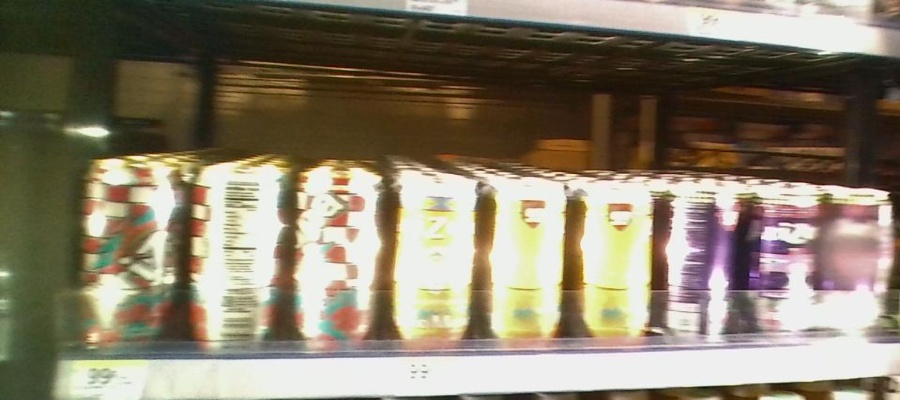bottle: (69, 151, 186, 357), (189, 162, 293, 354), (389, 160, 482, 352), (297, 154, 384, 353), (489, 168, 567, 347), (573, 171, 653, 345), (741, 174, 821, 343), (663, 176, 740, 344), (826, 178, 893, 343)
